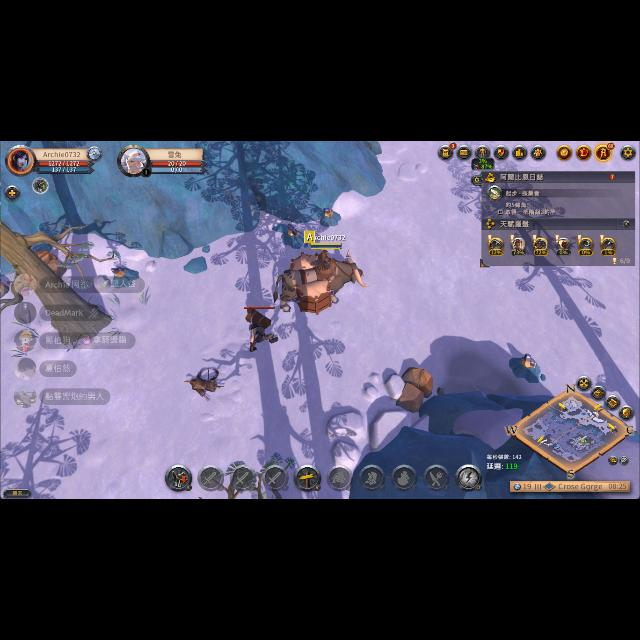mine_ii: (511, 349, 543, 376), (108, 266, 140, 286), (281, 223, 305, 249), (320, 207, 342, 226)
